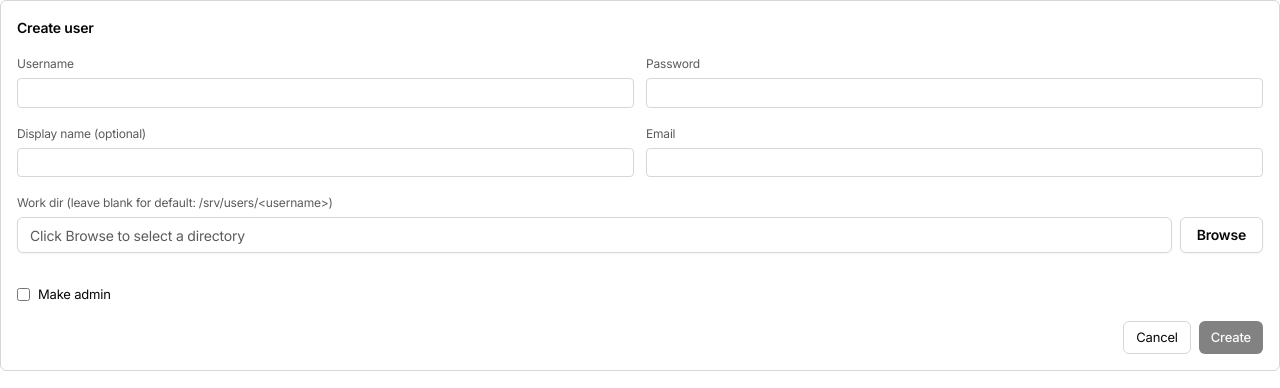
AdminUsersCreateForm › does not require an account when no provider is configured
Type "alice" into the field labelled "Username". click: (326, 93)
box: top-left (17, 78), bottom-right (634, 108)
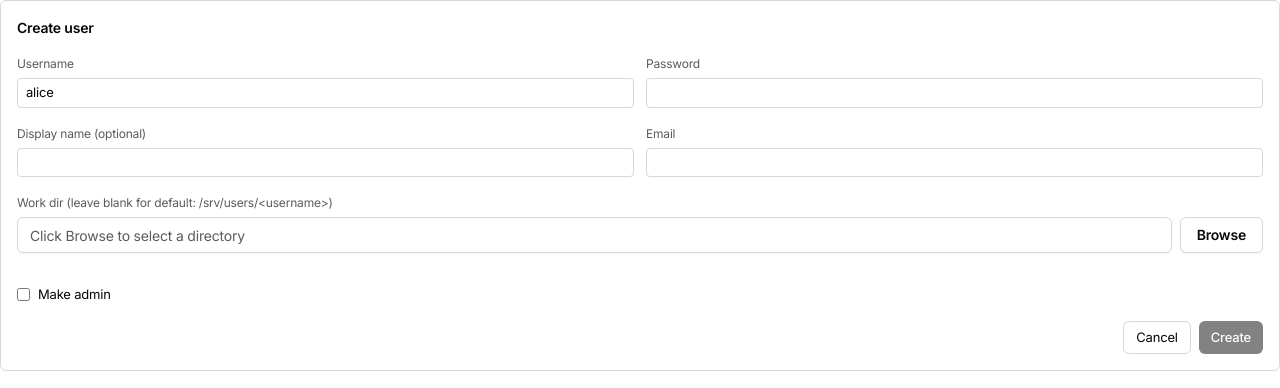
Type "hunter2" into the password field labelled "Password". click: (954, 93)
box: top-left (646, 78), bottom-right (1263, 108)
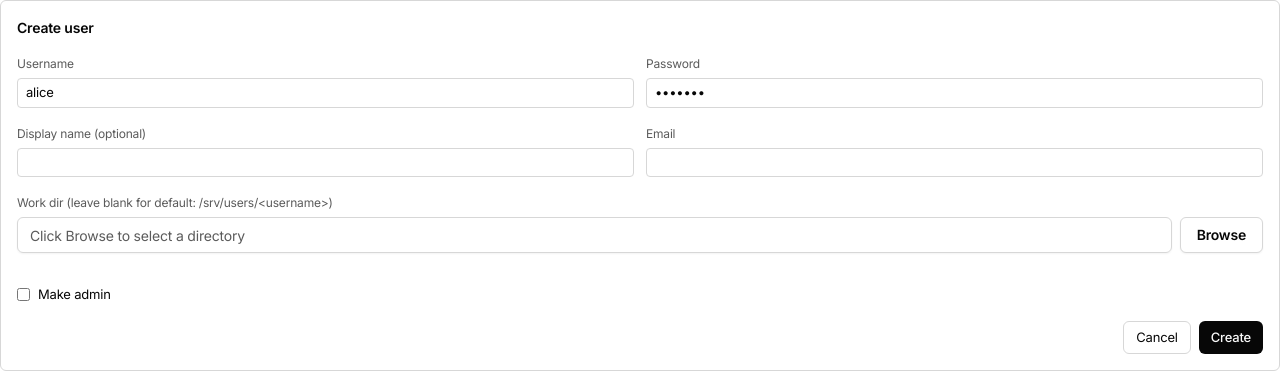
Result: the button "Create" is enabled at top-left (1199, 320), bottom-right (1263, 354)
